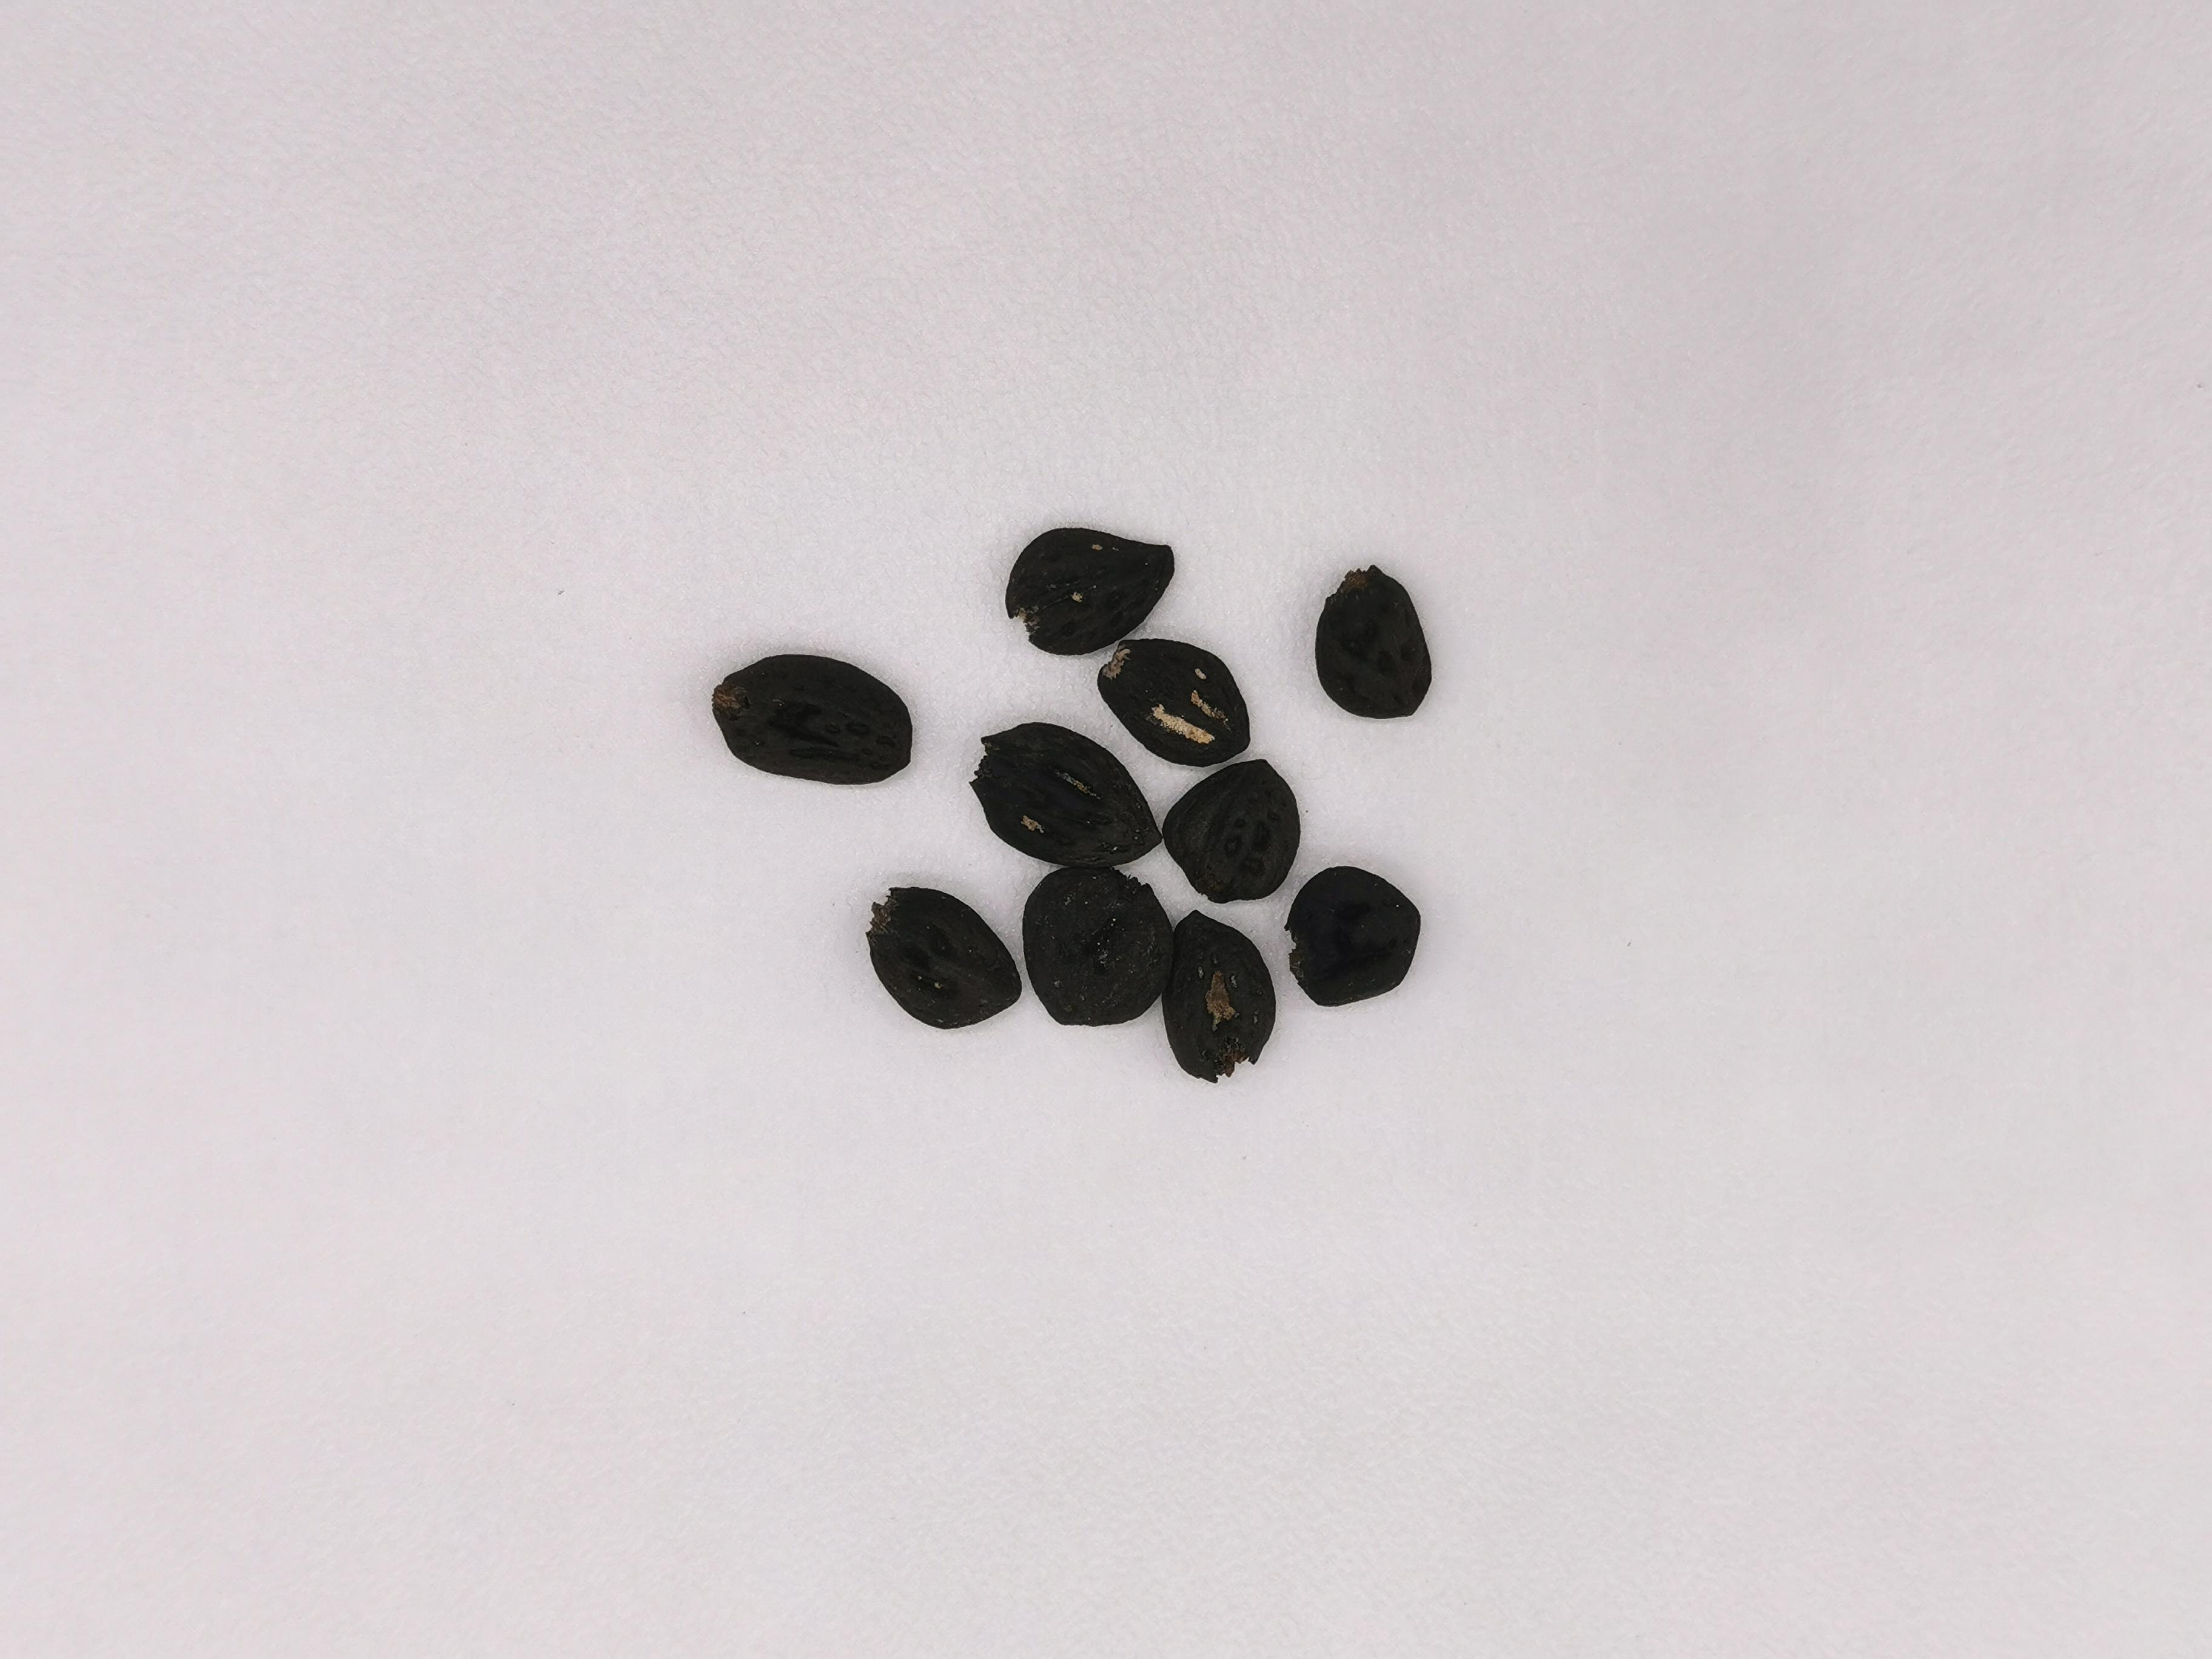seed: (711, 652, 916, 788), (970, 721, 1158, 866), (1001, 519, 1177, 657), (1019, 868, 1170, 1026), (864, 885, 1021, 1030), (1163, 753, 1303, 910), (1160, 908, 1280, 1087), (1096, 633, 1258, 765), (1282, 861, 1426, 1009), (1312, 565, 1432, 720)
